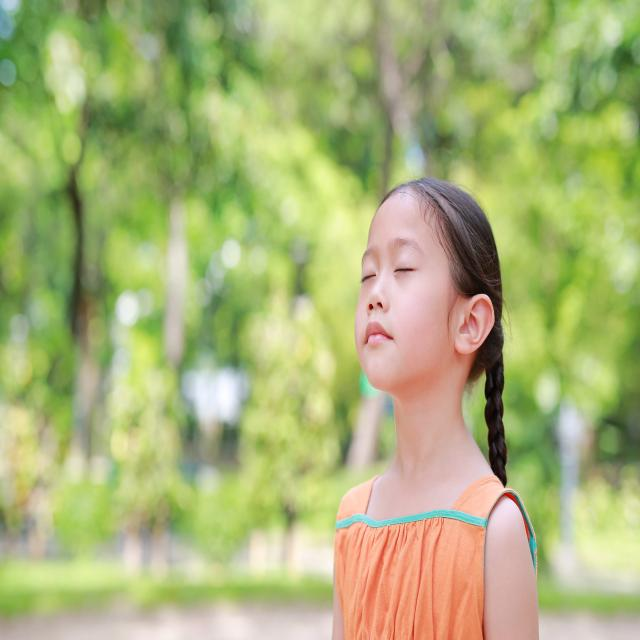child: (328, 172, 537, 640)
